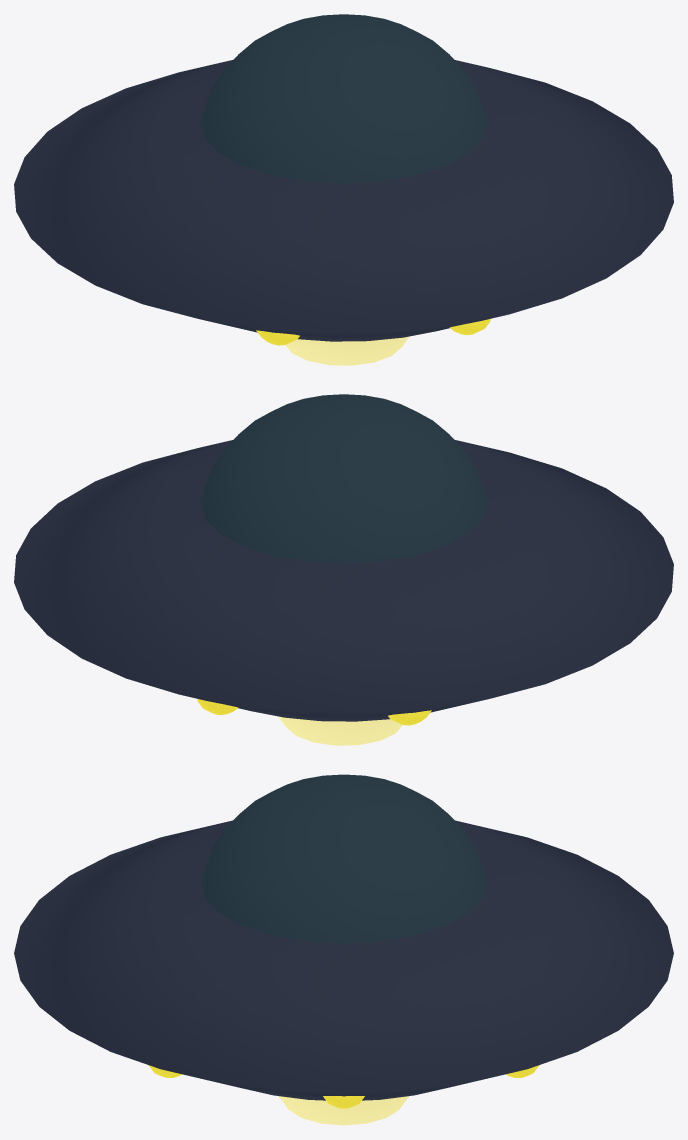
Rendered from sat_ufo.glb.
3 views of the same model, one above another, from view 1: azimuth 30°, elevation 25°; view 2: azimuth 150°, elevation 25°; view 3: azimuth 270°, elevation 25° (orthographic).
Visible parts, largest first — view 1: saucer_ol, dome.001_ol, beam_NoOutline; view 2: saucer_ol, dome.001_ol, beam_NoOutline; view 3: saucer_ol, dome.001_ol, beam_NoOutline.
Boxes of the visible parts, x1,y1,x2,y2 form: saucer_ol: (14,60,673,341); dome.001_ol: (200,14,487,183); beam_NoOutline: (285,336,409,365); saucer_ol: (14,440,673,721); dome.001_ol: (200,394,487,563); beam_NoOutline: (278,716,402,745); saucer_ol: (14,820,673,1100); dome.001_ol: (200,774,487,943); beam_NoOutline: (279,1096,408,1125).
Size of the model in its own units: 1.1 by 0.571 by 1.1.
